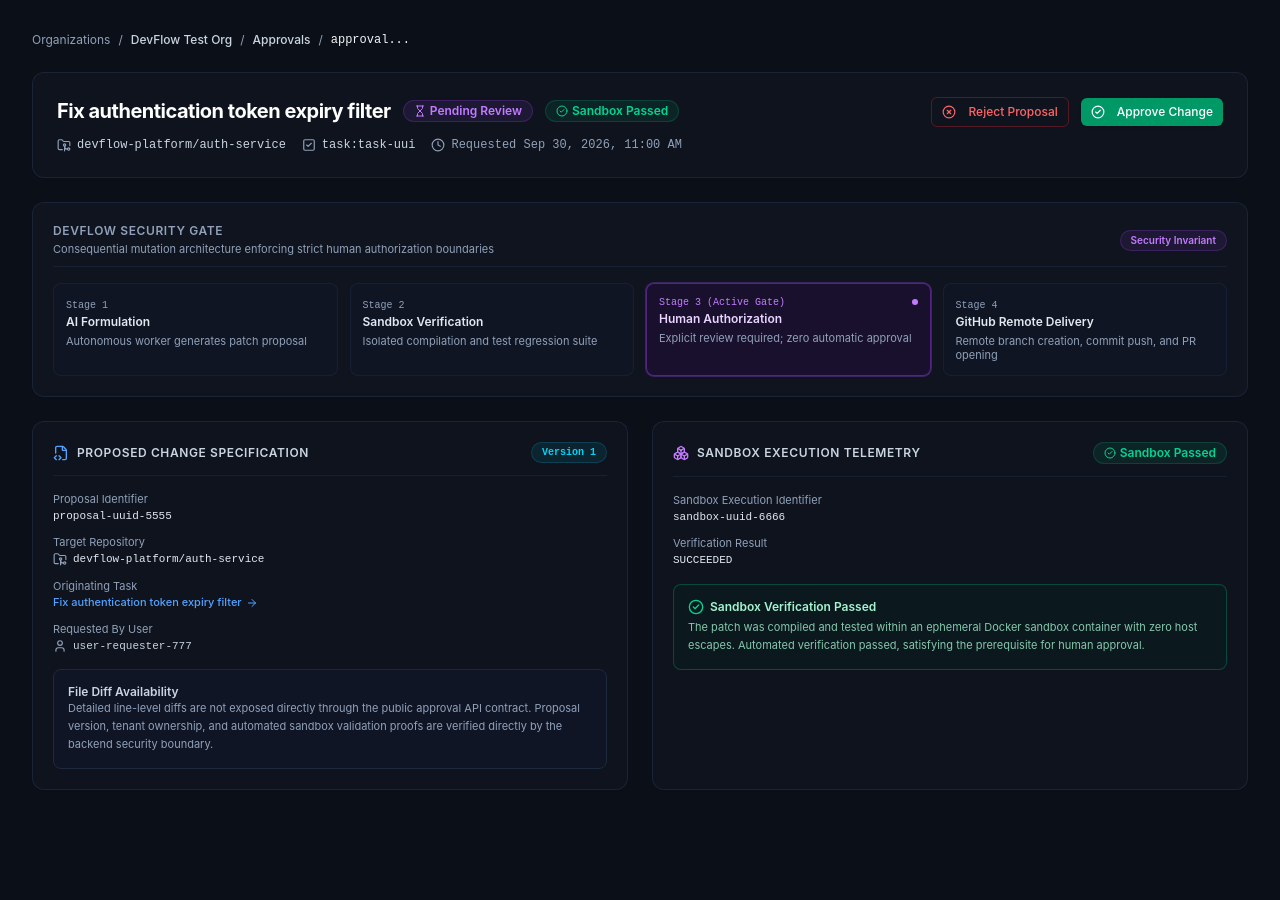
Test: ApprovalDetailPage › opens Reject modal when Reject Proposal is clicked
Click the button "Reject Proposal".
click(1000, 112)  # box x1=932 y1=97 x2=1069 y2=127
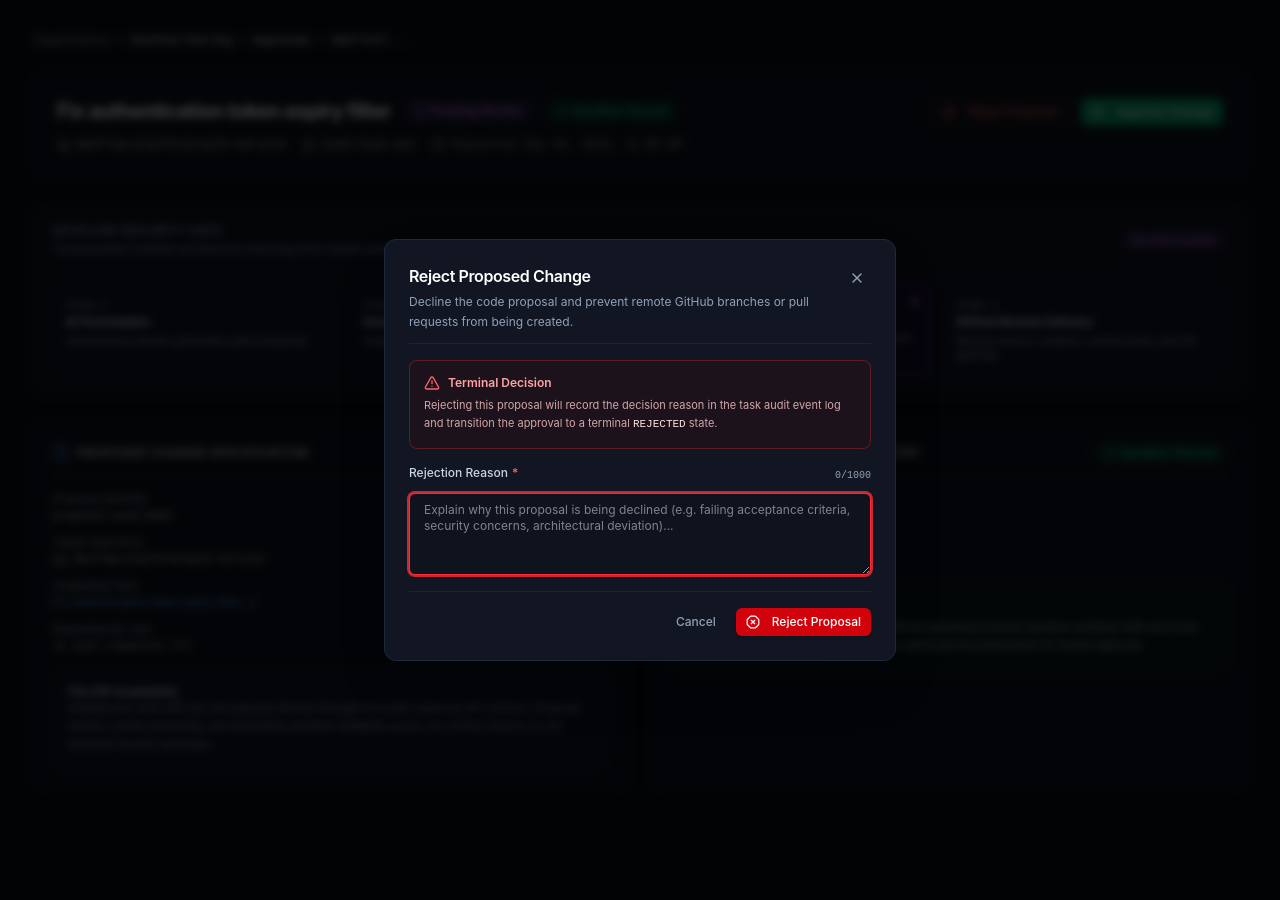
Now the text "Terminal Decision" is shown, box x1=448 y1=375 x2=552 y2=391
Now the text box labelled "Rejection Reason*" is shown, box x1=409 y1=493 x2=871 y2=575
